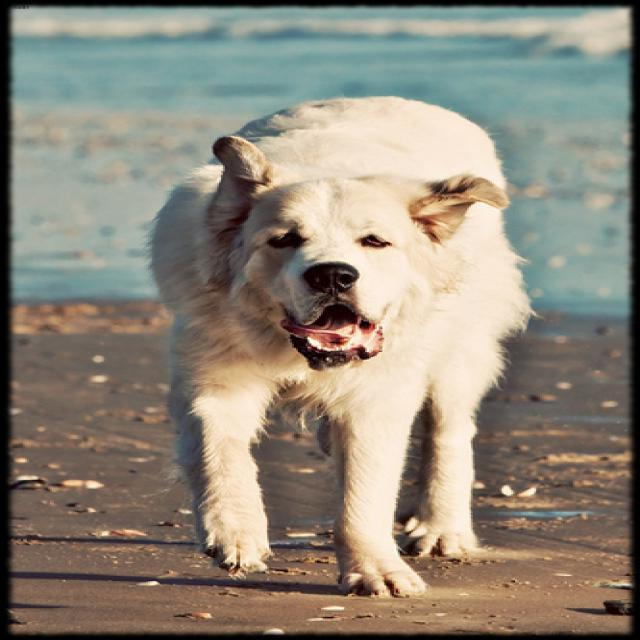dog-great_pyrenees: (138, 90, 554, 611)
